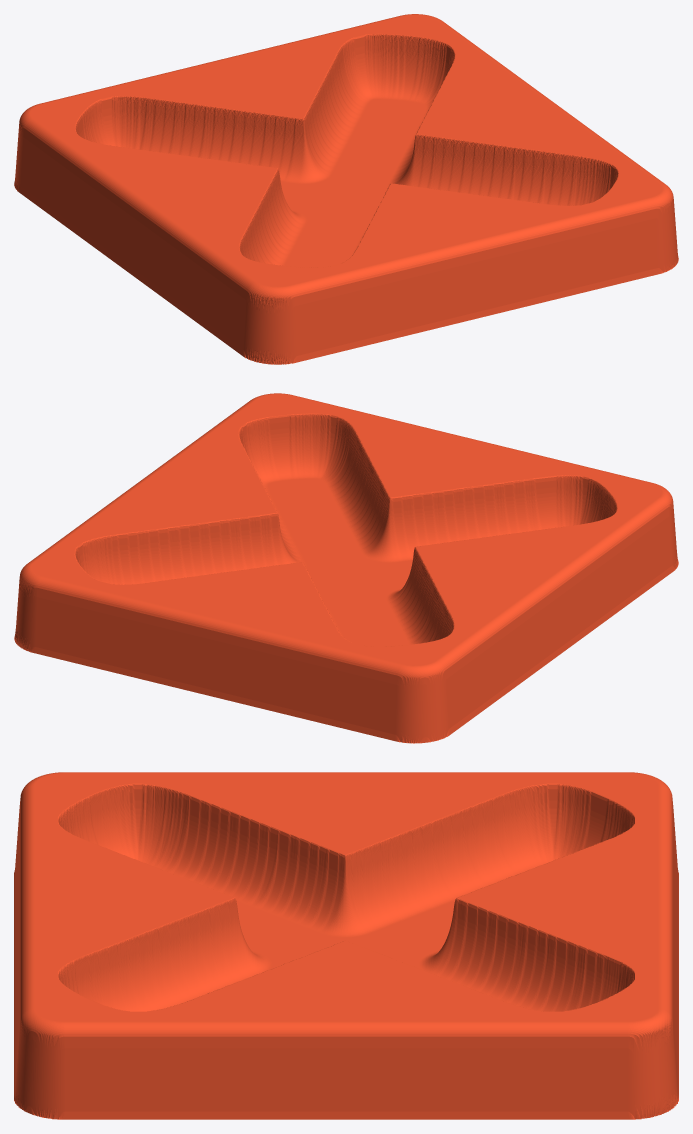
The model's file is mold.glb.
3 renders of one model, top to bottom at view 1: azimuth 30°, elevation 25°; view 2: azimuth 150°, elevation 25°; view 3: azimuth 270°, elevation 25°, orthographic. The views are drawn at different scales.
Visible parts, largest first — view 1: geometry_0; view 2: geometry_0; view 3: geometry_0.
Boxes of the visible parts, x1,y1,x2,y2 form: geometry_0: [14, 14, 678, 364]; geometry_0: [14, 393, 678, 743]; geometry_0: [14, 772, 678, 1119].
Size of the model in its own units: 0.1112 by 0.0175 by 0.1178.
